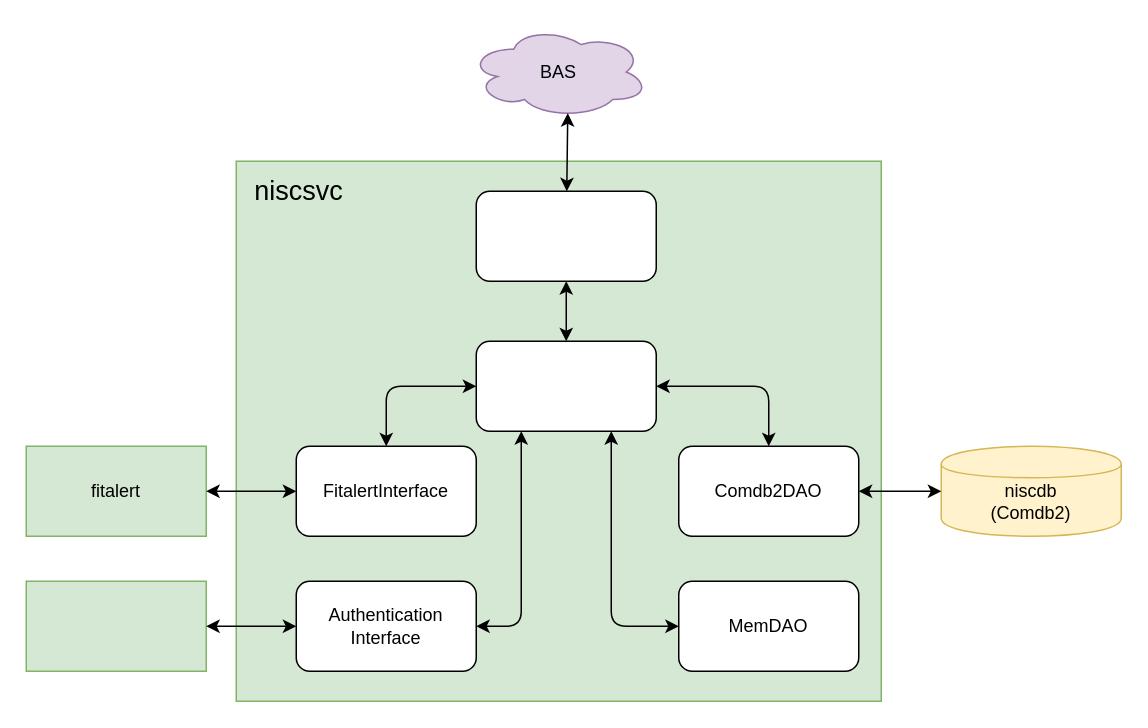
This 1148x728 diagram has some shape labels left out. Here are the shapes that lost their labels. From the top down, the centre of each, then its label:
At [565,235]: "RequestProcessor".
At [565,385]: "RecordManager".
At [115,625]: "fietpsvc".
